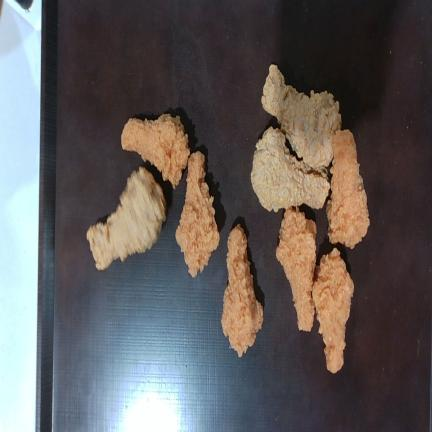chicken: (86, 167, 166, 270), (261, 65, 341, 168), (251, 127, 330, 211), (221, 224, 263, 357), (176, 151, 219, 277), (312, 248, 354, 373), (121, 113, 190, 188), (326, 130, 369, 248), (276, 208, 316, 331)
